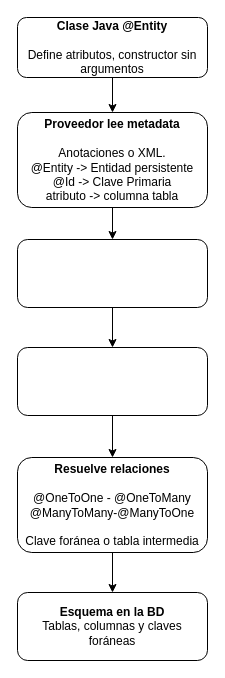
Image size: 225x678. Some labels were removed from this diagram. Each missing label, with the centre of its shape:
"Mapea atributos a columnas @Table, @Column" belongs at point (112, 381).
"Resuelve atributos y @Id Access type, clave primaria" belongs at point (112, 273).
